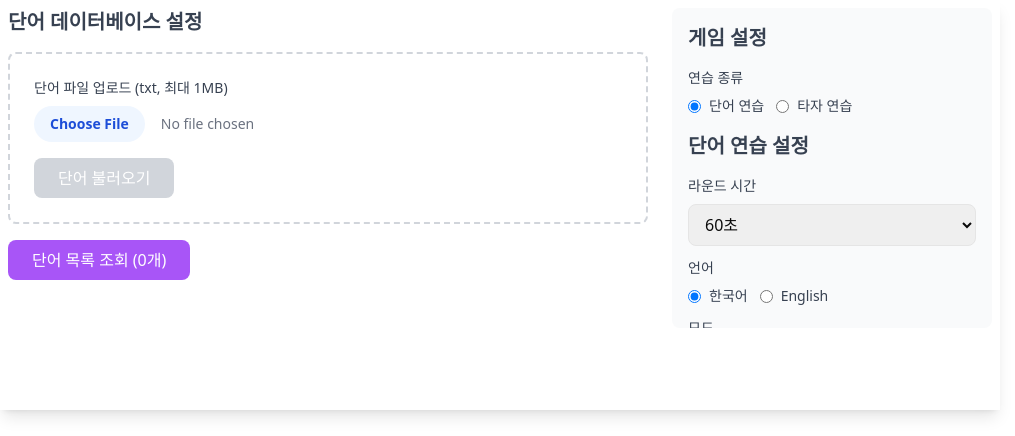
Test case: GameSetup › uses the currently selected controlled practice type
The image size is (1015, 436).
Click the radio button labelled "타자 연습" at point(783, 106), box [776, 100, 789, 112]
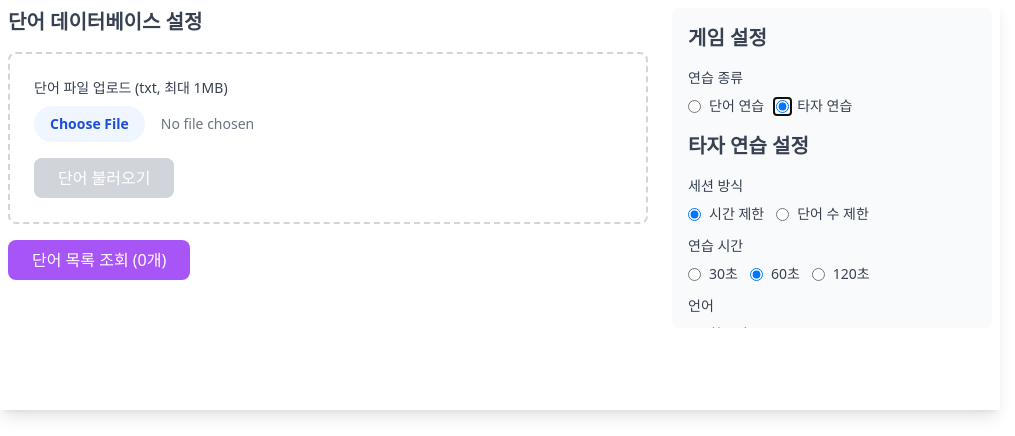
Check: the radio button labelled "타자 연습" is checked, box [776, 100, 789, 112]
Check: the heading "타자 연습 설정" is shown, box [688, 132, 809, 159]
